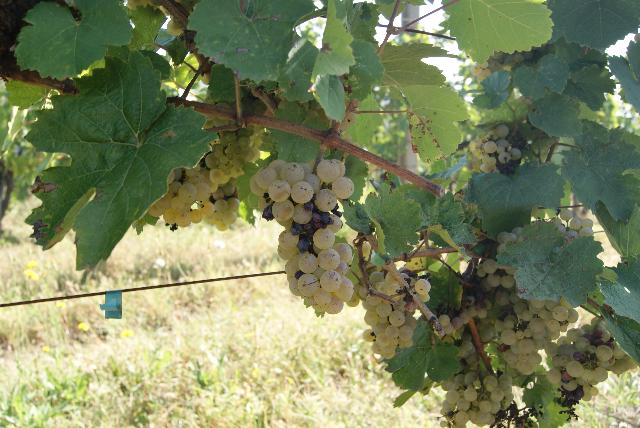grapes: (250, 160, 355, 314), (348, 259, 431, 360), (545, 321, 636, 401), (149, 152, 239, 230), (441, 369, 514, 426), (206, 126, 262, 176)
